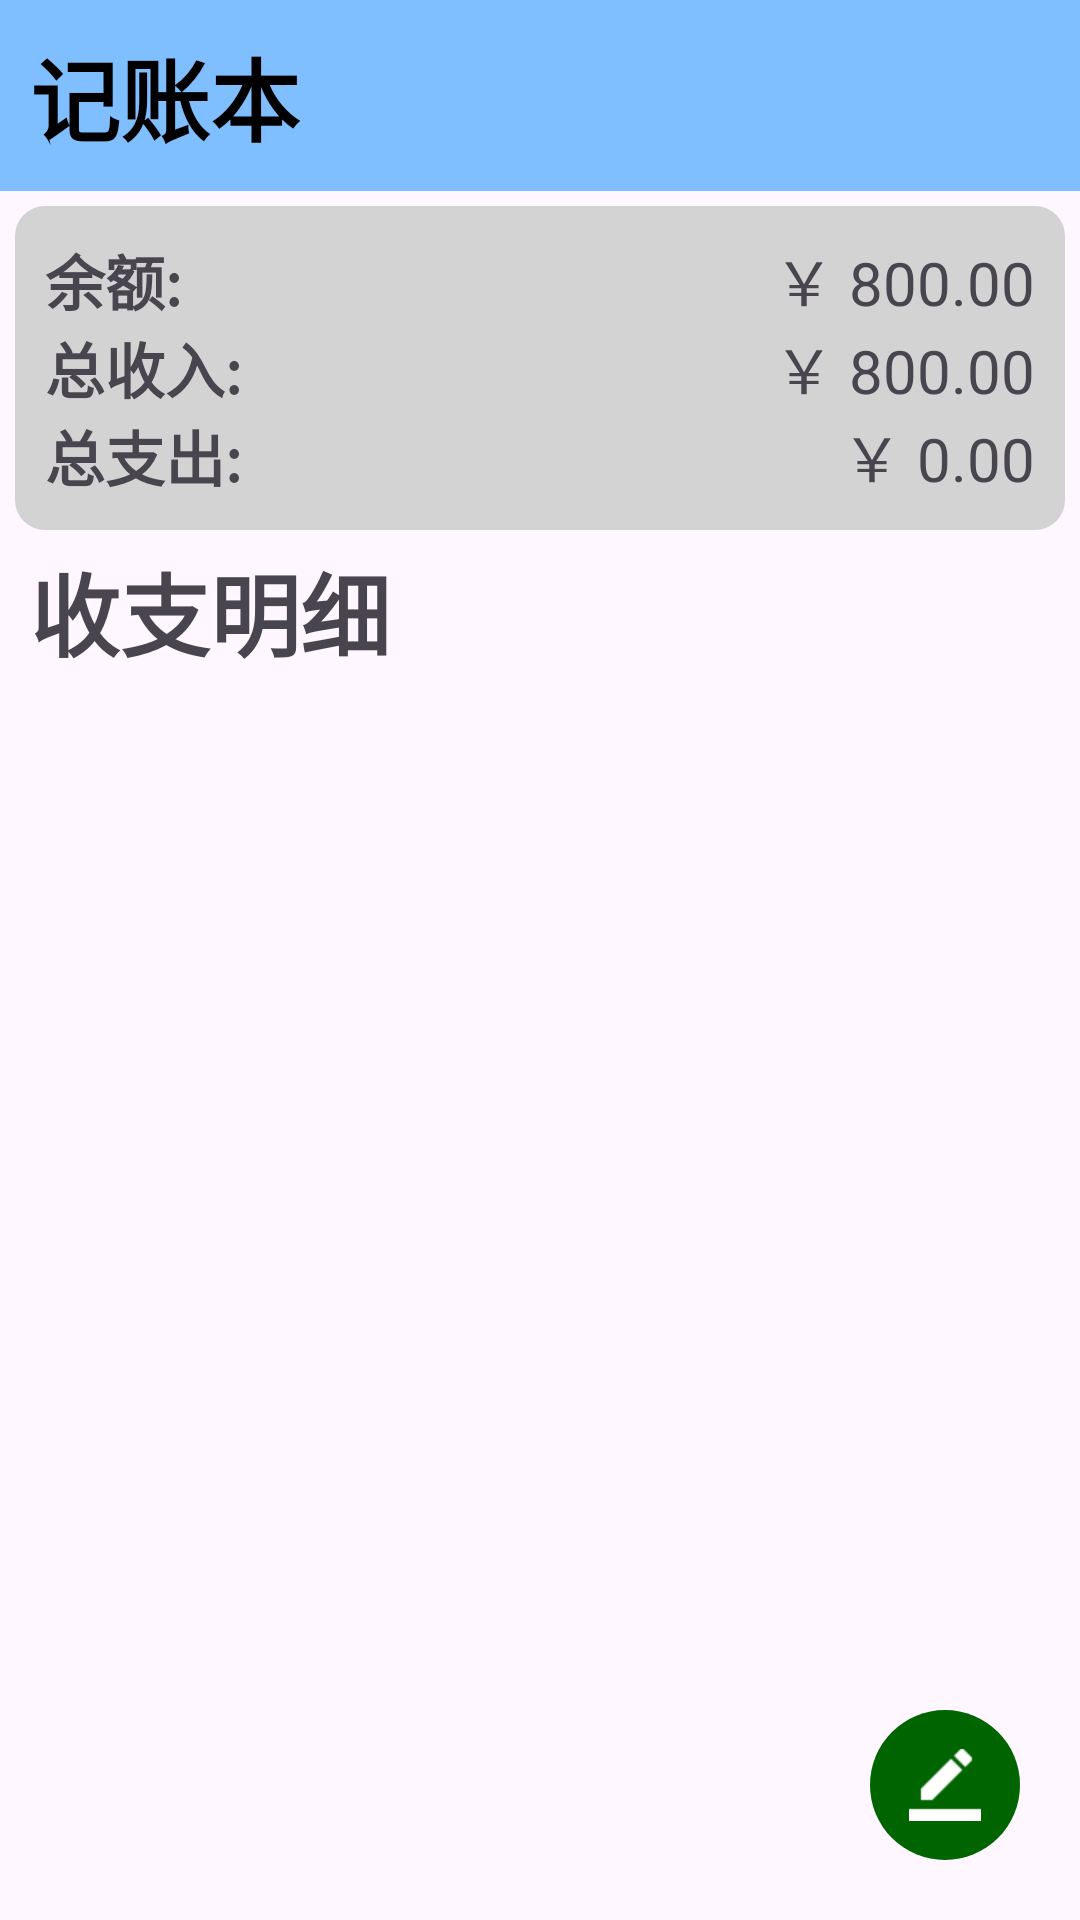

Where to tap for icons on this 1080×1920 app screen, as [x,y]:
record write: [945,1785]
